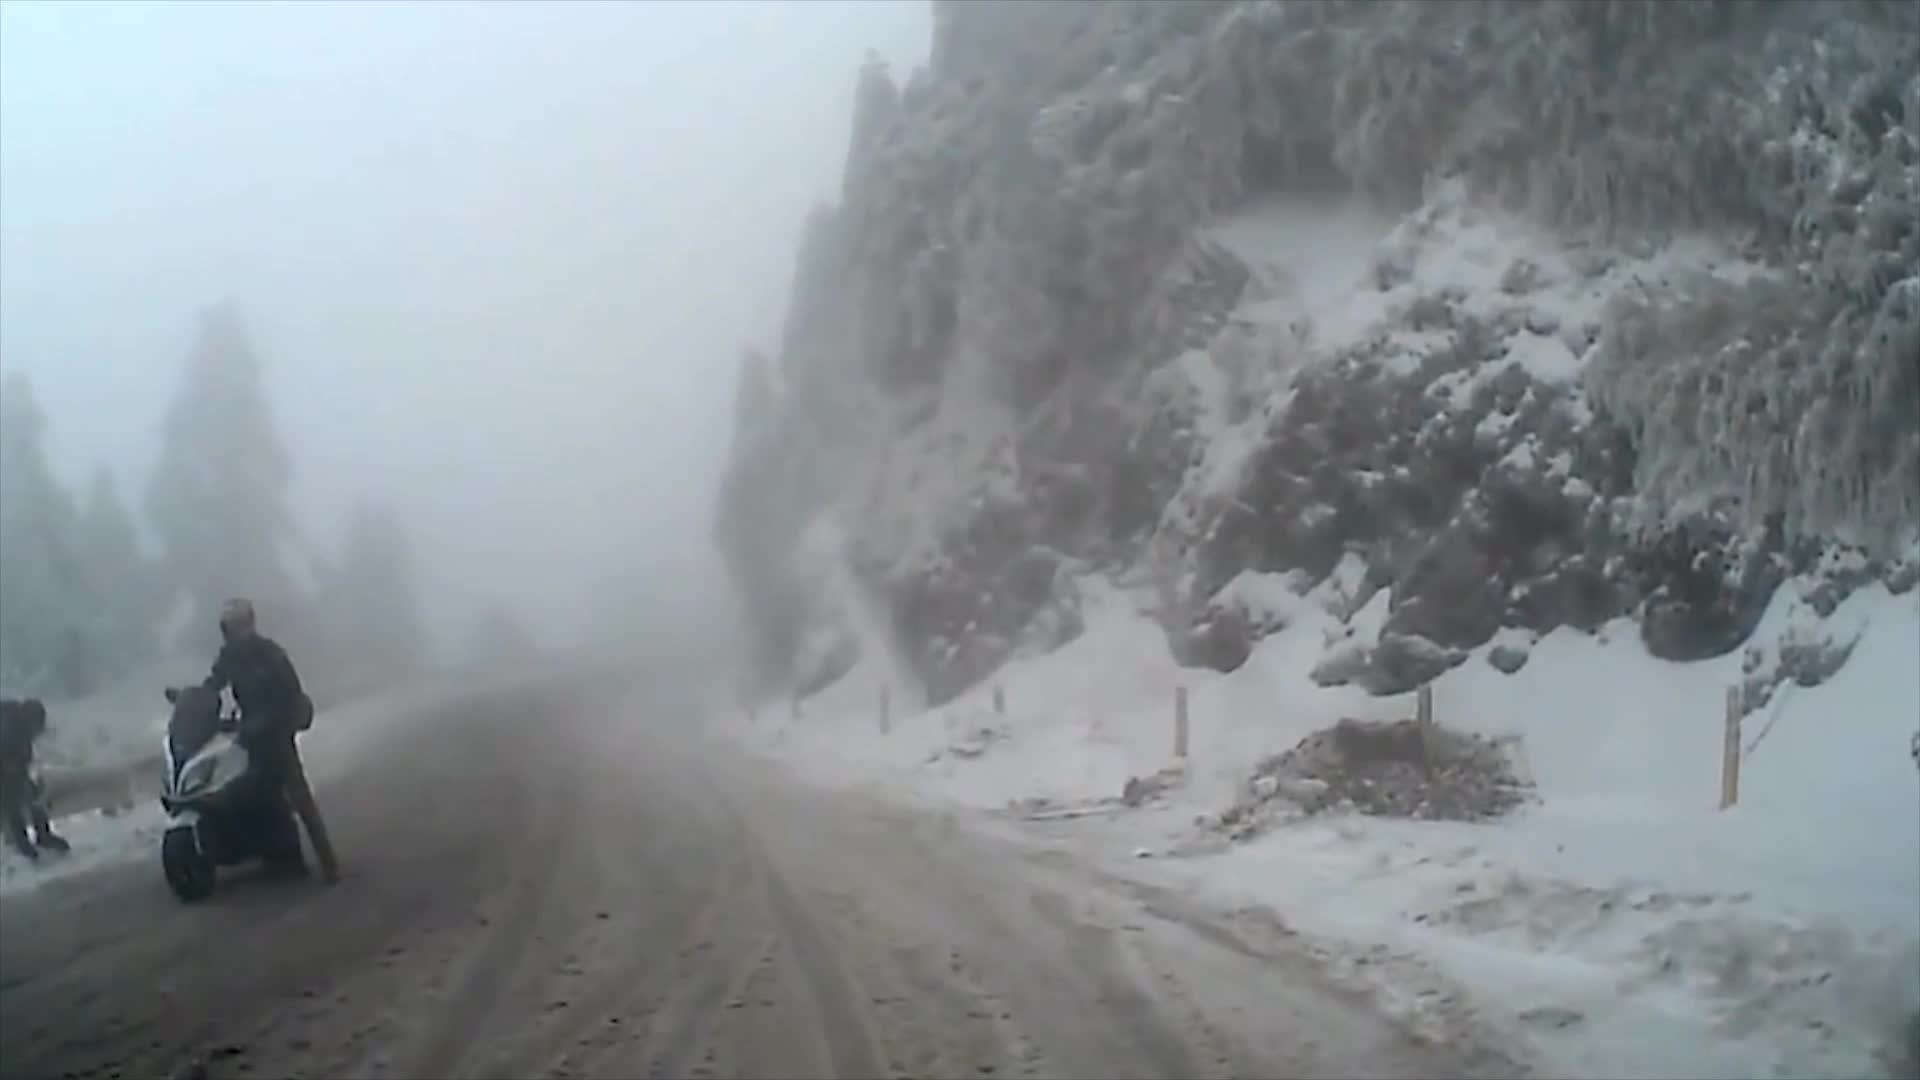pedestrian: (174, 585, 343, 890), (1, 703, 68, 872)
